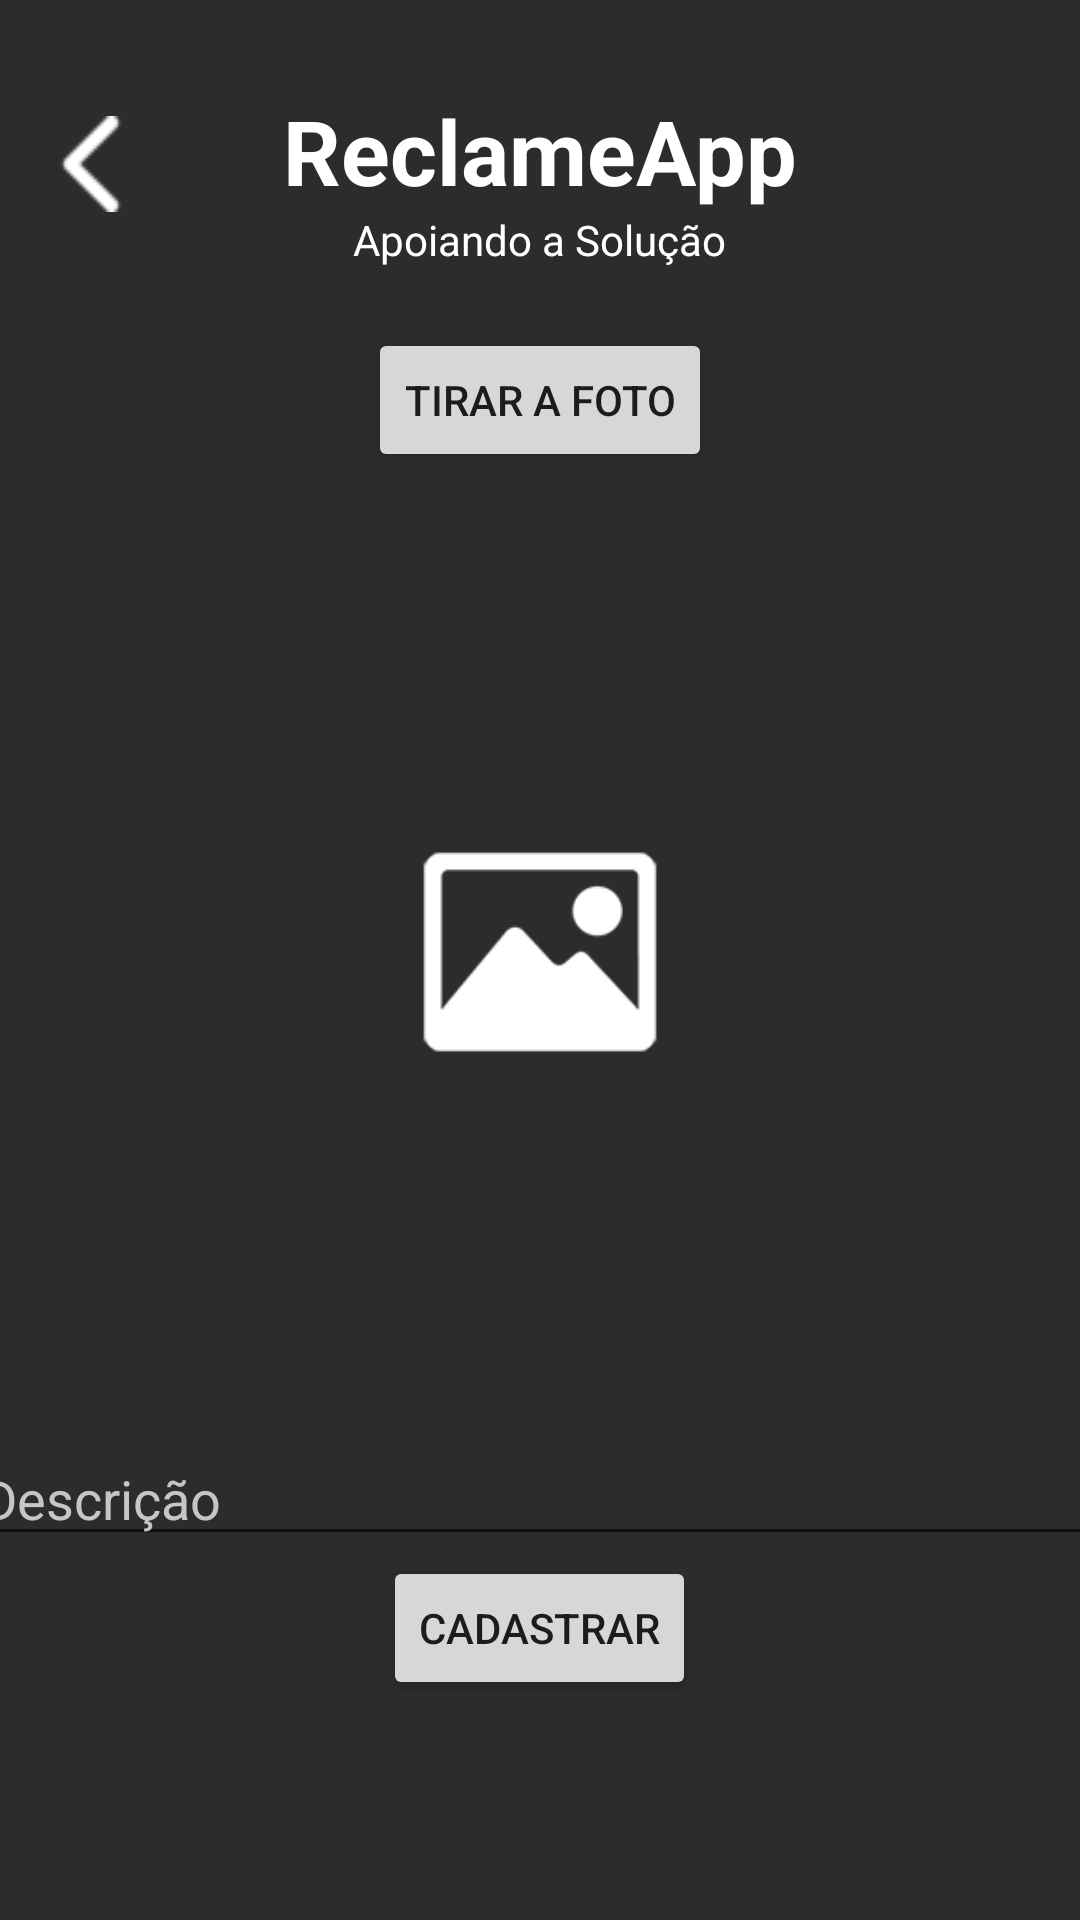

Screen size 1080px×1920px. Icon name, then its box in pixels as {"x1": x1, "y1": y1, "x2": x2, "y2": y2}:
backicon: {"x1": 62, "y1": 116, "x2": 121, "y2": 212}
